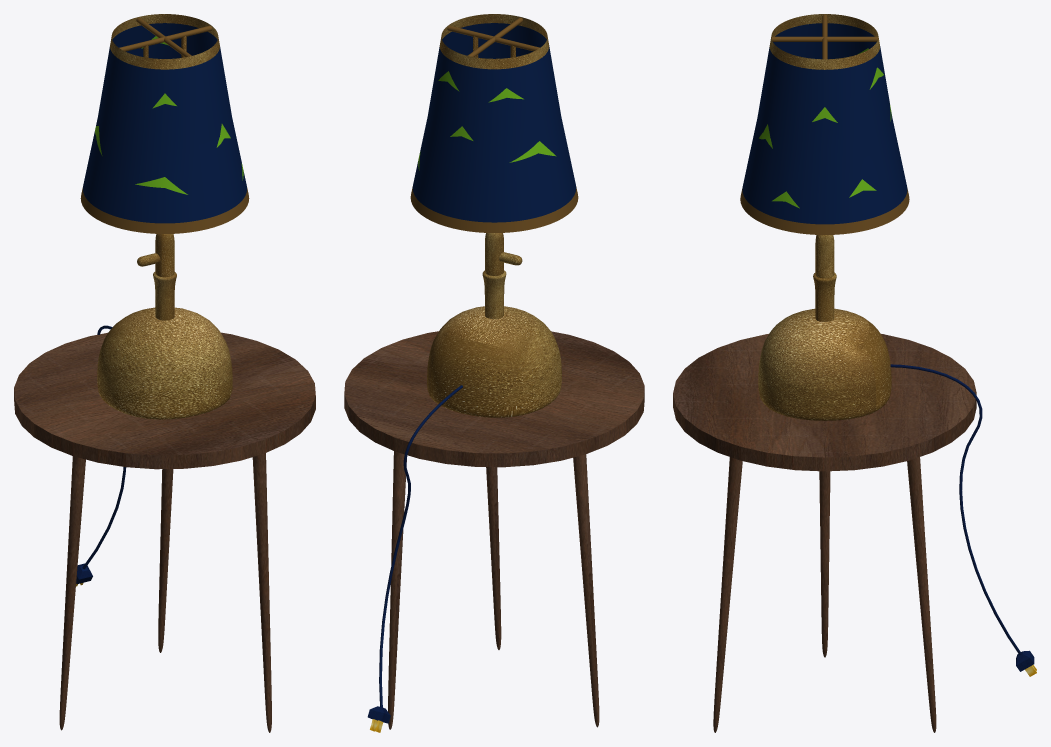
The model's file is lamph1.obj.
The picture shows the model from 3 angles, left to right: view 1: azimuth 30°, elevation 25°; view 2: azimuth 150°, elevation 25°; view 3: azimuth 270°, elevation 25°; orthographic projection.
Parts seen in each view (by area): view 1: mesa, lampara.001, base, pata1.001, pata1.002, lampara.002, lampara.003, pata1, soporte1, soporte2, soporte6; view 2: mesa, lampara.001, base, pata1.002, pata1, lampara.002, lampara.003, pata1.001, cable, soporte1, soporte2, soporte6; view 3: lampara.001, mesa, base, pata1, pata1.001, lampara.002, lampara.003, pata1.002, cable, soporte1, soporte2, soporte6.002.
Part boxes in pixels (x1,y1,x2,y2): mesa: (14,332,315,469); lampara.001: (83,23,246,223); base: (97,307,232,419); pata1.001: (252,453,271,732); pata1.002: (59,456,85,730); lampara.002: (110,14,219,69); lampara.003: (80,187,249,233); pata1: (158,469,173,652); soporte1: (153,272,176,320); soporte2: (155,234,174,277); soporte6: (119,25,212,51); mesa: (344,331,644,467); lampara.001: (412,23,576,222); base: (427,306,561,417); pata1.002: (573,454,599,727); pata1: (388,451,406,729); lampara.002: (439,14,549,69); lampara.003: (410,186,578,232); pata1.001: (486,467,501,649); cable: (379,385,462,707); soporte1: (482,270,506,319); soporte2: (485,233,503,275); soporte6: (447,25,539,51); lampara.001: (742,23,907,224); mesa: (673,334,976,471); base: (758,308,891,420); pata1: (907,457,936,732); pata1.001: (713,457,742,732); lampara.002: (769,14,879,69); lampara.003: (740,188,909,234); pata1.002: (819,471,830,657); cable: (890,364,1021,654); soporte1: (813,272,836,321); soporte2: (815,235,834,278); soporte6.002: (772,36,877,41).
Size of the model in its own units: 4.18 by 10.2 by 5.01.
